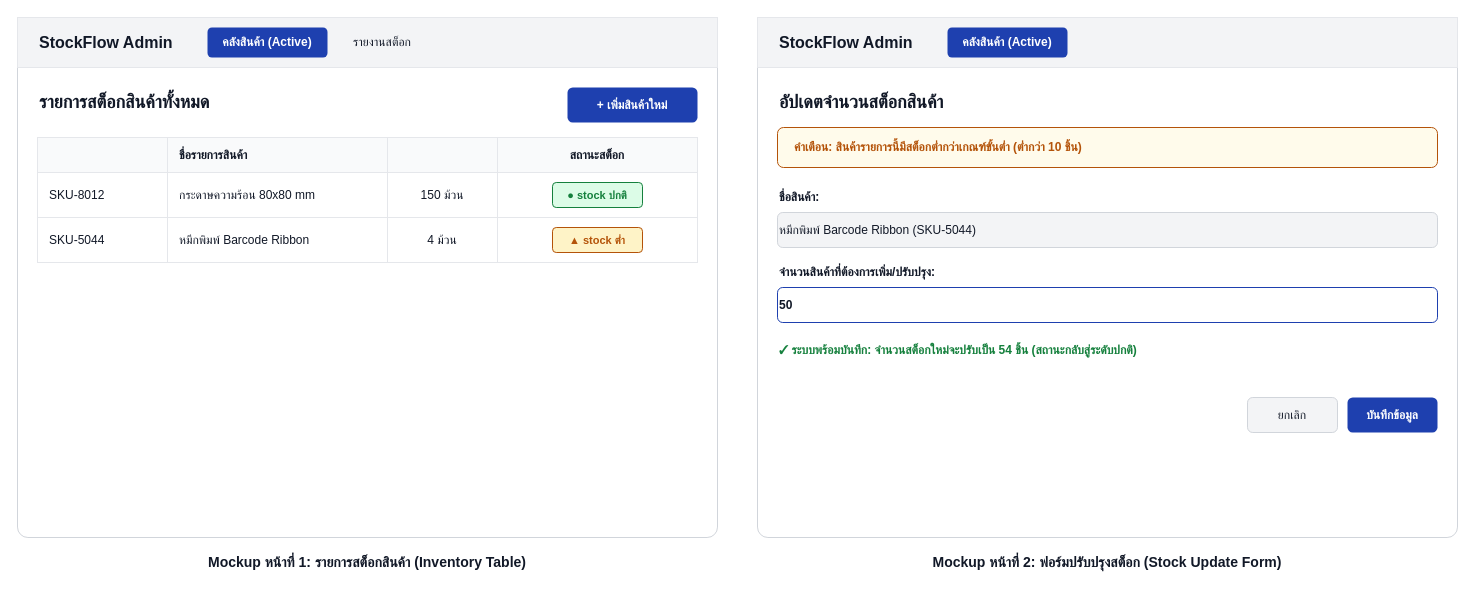
The diagram is 1475 pixels wide and 595 high, and some of its shapes have lost their labels. Here are the shapes that lost their labels. From the top down, the centre of each, then its label:
At (102,154): "รหัสสินค้า".
At (442,154): "คงเหลือ".
